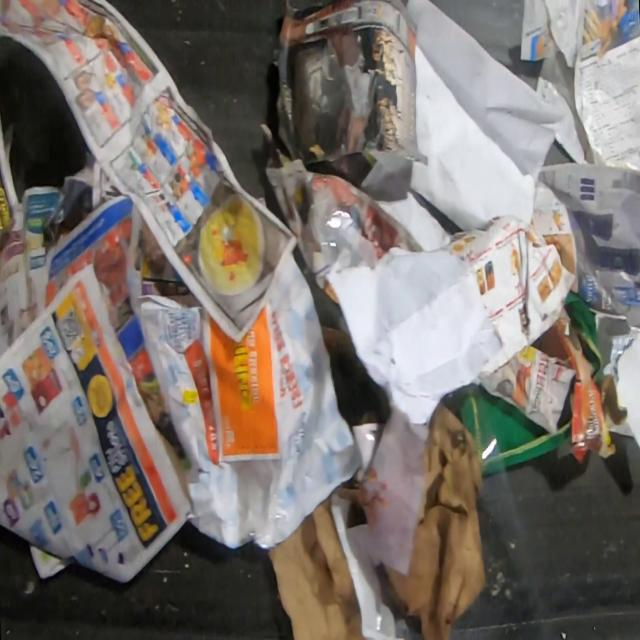cardboard: (357, 400, 485, 636), (268, 496, 361, 639)
rigid_plastic: (448, 431, 551, 639)
soft_plastic: (309, 184, 374, 276), (236, 461, 282, 550)
